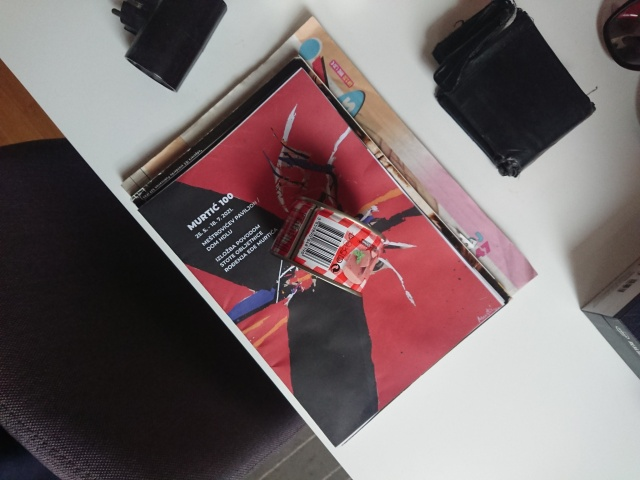Podravka Luncheon Meat 150g: (265, 193, 388, 299)
